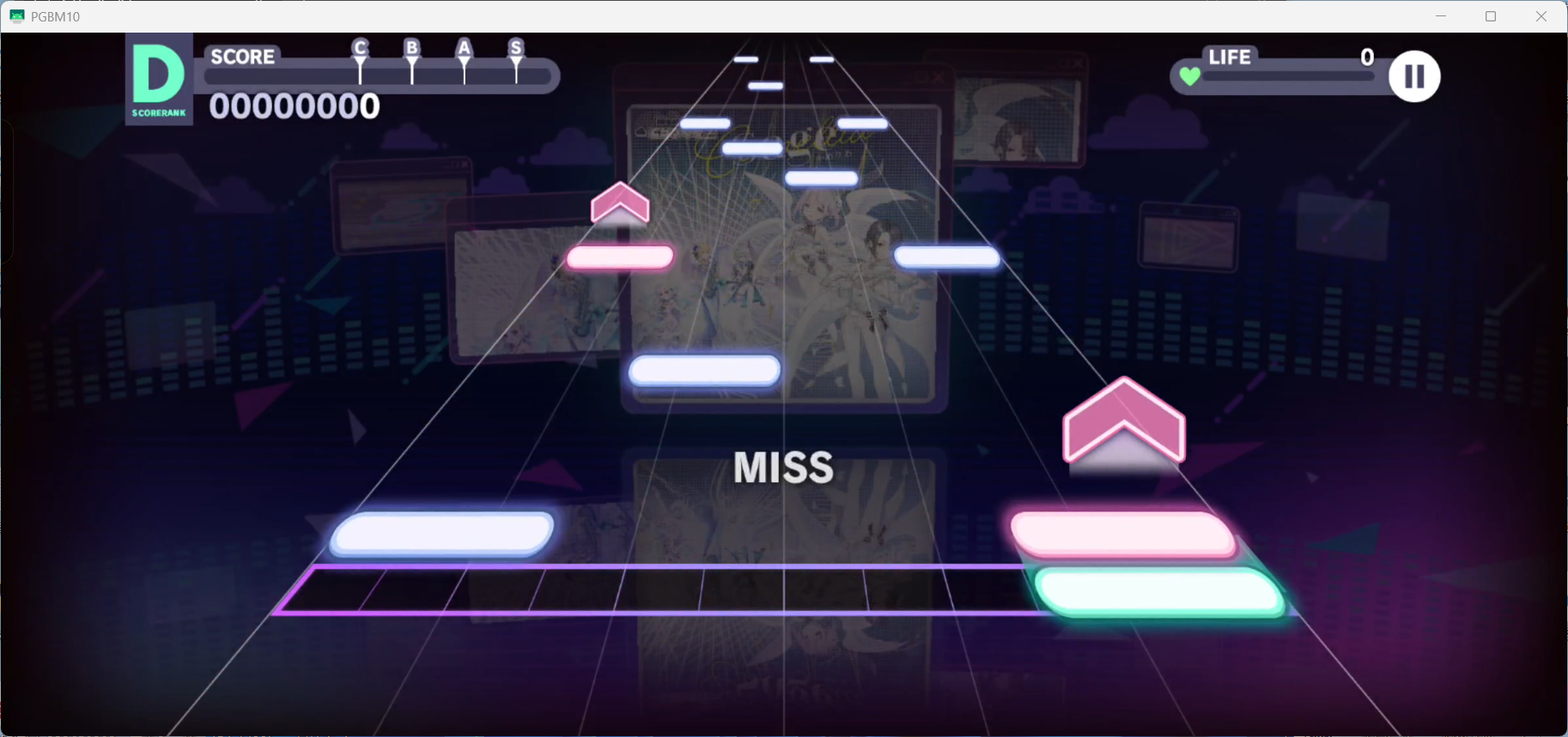flick: (1061, 373, 1187, 483), (590, 181, 648, 227)
tap: (1034, 566, 1285, 618), (1011, 511, 1237, 558), (331, 512, 555, 557), (627, 354, 780, 387), (894, 245, 1000, 269), (566, 246, 673, 269), (785, 170, 858, 186), (722, 142, 782, 154), (837, 118, 887, 129), (680, 118, 730, 128), (748, 82, 782, 89), (733, 56, 758, 63), (810, 56, 834, 63)
